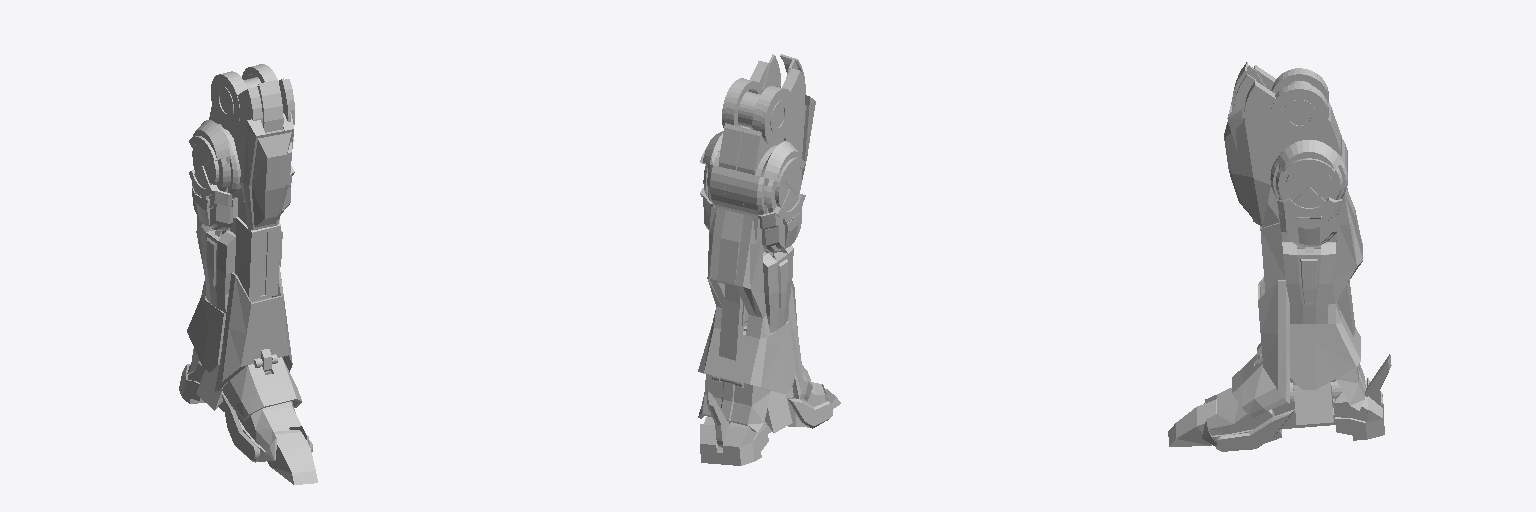
File: RZ-0 rightleg.obj
3 views of the same model, side by side, from view 1: azimuth 30°, elevation 25°; view 2: azimuth 150°, elevation 25°; view 3: azimuth 270°, elevation 25° (orthographic).
Visible parts, largest first — view 1: Cylinder.1520_Cylinder.1818, Cylinder.1545_Cylinder.1843, Cylinder.1543_Cylinder.1841, Cylinder.1522_Cylinder.1820, Cylinder.1521_Cylinder.1819, Cylinder.1507_Cylinder.1805, Cylinder.1537_Cylinder.1835, Cylinder.1524_Cylinder.1822, Cylinder.1539_Cylinder.1837, Cylinder.1512_Cylinder.1810, Cylinder.1544_Cylinder.1842, Cylinder.1510_Cylinder.1808 (+6 smaller); view 2: Cylinder.1507_Cylinder.1805, Cylinder.1543_Cylinder.1841, Cylinder.1504_Cylinder.1802, Cylinder.2054_Cylinder.2509, Cylinder.1535_Cylinder.1833, Cylinder.1524_Cylinder.1822, Cylinder.1508_Cylinder.1806, Cylinder.1528_Cylinder.1826, Cylinder.1512_Cylinder.1810, Cylinder.1509_Cylinder.1807, Cylinder.1510_Cylinder.1808, Cylinder.1506_Cylinder.1804 (+4 smaller); view 3: Cylinder.1543_Cylinder.1841, Cylinder.1507_Cylinder.1805, Cylinder.1526_Cylinder.1824, Cylinder.1520_Cylinder.1818, Cylinder.1521_Cylinder.1819, Cylinder.1514_Cylinder.1812, Cylinder.1537_Cylinder.1835, Cylinder.1535_Cylinder.1833, Cylinder.1504_Cylinder.1802, Cylinder.1530_Cylinder.1828, Cylinder.1516_Cylinder.1814, Cylinder.1518_Cylinder.1816 (+8 smaller).
Boxes of the visible parts, x1=… form: Cylinder.1520_Cylinder.1818: x1=215, y1=265, x2=292, y2=391; Cylinder.1545_Cylinder.1843: x1=243, y1=112, x2=293, y2=230; Cylinder.1543_Cylinder.1841: x1=211, y1=64, x2=294, y2=230; Cylinder.1522_Cylinder.1820: x1=235, y1=217, x2=280, y2=300; Cylinder.1521_Cylinder.1819: x1=222, y1=354, x2=301, y2=420; Cylinder.1507_Cylinder.1805: x1=187, y1=198, x2=237, y2=372; Cylinder.1537_Cylinder.1835: x1=236, y1=401, x2=309, y2=462; Cylinder.1524_Cylinder.1822: x1=201, y1=224, x2=235, y2=312; Cylinder.1539_Cylinder.1837: x1=267, y1=430, x2=317, y2=484; Cylinder.1512_Cylinder.1810: x1=189, y1=120, x2=233, y2=165; Cylinder.1544_Cylinder.1842: x1=258, y1=80, x2=283, y2=132; Cylinder.1510_Cylinder.1808: x1=192, y1=186, x2=233, y2=230; Cylinder.1507_Cylinder.1805: x1=698, y1=207, x2=795, y2=393; Cylinder.1543_Cylinder.1841: x1=722, y1=54, x2=805, y2=155; Cylinder.1504_Cylinder.1802: x1=715, y1=79, x2=783, y2=217; Cylinder.2054_Cylinder.2509: x1=698, y1=374, x2=770, y2=431; Cylinder.1535_Cylinder.1833: x1=700, y1=416, x2=768, y2=465; Cylinder.1524_Cylinder.1822: x1=763, y1=245, x2=793, y2=332; Cylinder.1508_Cylinder.1806: x1=703, y1=145, x2=801, y2=217; Cylinder.1528_Cylinder.1826: x1=719, y1=284, x2=744, y2=360; Cylinder.1512_Cylinder.1810: x1=760, y1=141, x2=805, y2=187; Cylinder.1509_Cylinder.1807: x1=758, y1=185, x2=805, y2=230; Cylinder.1510_Cylinder.1808: x1=762, y1=211, x2=801, y2=252; Cylinder.1506_Cylinder.1804: x1=724, y1=169, x2=772, y2=331; Cylinder.1543_Cylinder.1841: x1=1226, y1=65, x2=1328, y2=226; Cylinder.1507_Cylinder.1805: x1=1290, y1=188, x2=1362, y2=389; Cylinder.1526_Cylinder.1824: x1=1282, y1=242, x2=1335, y2=323; Cylinder.1520_Cylinder.1818: x1=1257, y1=277, x2=1289, y2=403; Cylinder.1521_Cylinder.1819: x1=1232, y1=354, x2=1287, y2=417; Cylinder.1514_Cylinder.1812: x1=1277, y1=140, x2=1340, y2=186; Cylinder.1537_Cylinder.1835: x1=1202, y1=388, x2=1281, y2=445; Cylinder.1535_Cylinder.1833: x1=1333, y1=378, x2=1384, y2=440; Cylinder.1504_Cylinder.1802: x1=1269, y1=70, x2=1347, y2=175; Cylinder.1530_Cylinder.1828: x1=1293, y1=379, x2=1335, y2=424; Cylinder.1516_Cylinder.1814: x1=1277, y1=187, x2=1341, y2=224; Cylinder.1518_Cylinder.1816: x1=1279, y1=214, x2=1338, y2=246.
Size of the model in its own units: 1.16 by 5.1 by 2.74.